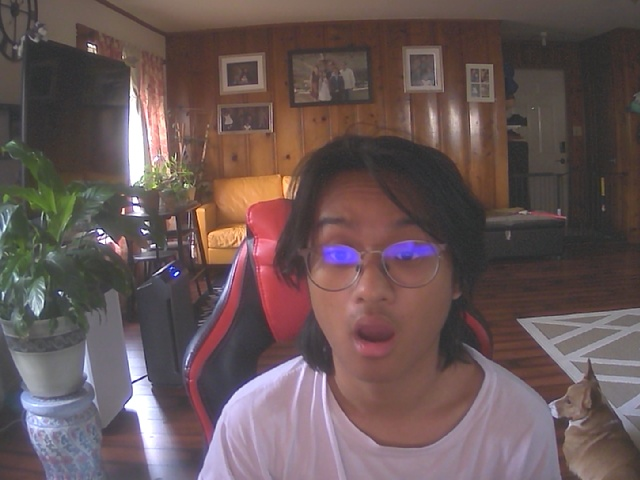fear: (297, 150, 465, 384)
